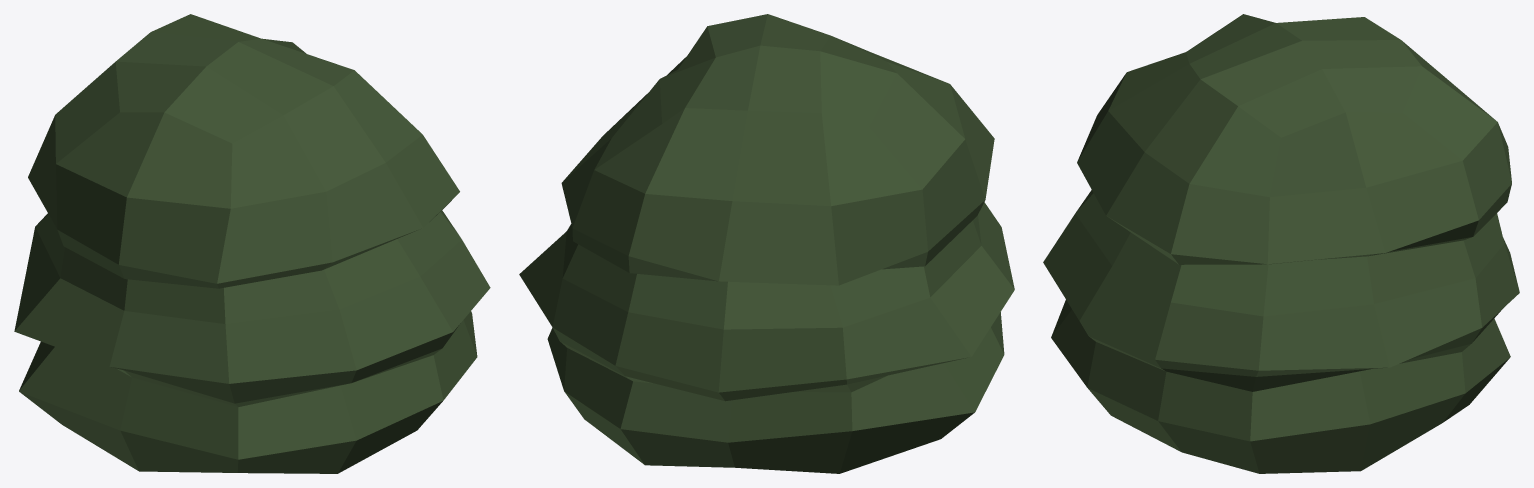
Rendered from Bush_2.glb.
3 views of the same model, side by side, from view 1: azimuth 30°, elevation 25°; view 2: azimuth 150°, elevation 25°; view 3: azimuth 270°, elevation 25° (orthographic). The views are drawn at different scales.
Visible parts, largest first — view 1: Bush_2; view 2: Bush_2; view 3: Bush_2.
Part boxes in pixels (x1,y1,x2,y2): Bush_2: [14, 14, 490, 473]; Bush_2: [519, 14, 1014, 473]; Bush_2: [1043, 14, 1519, 473].
Bounding box in the file's own units: 1.35 × 1.11 × 1.33.
